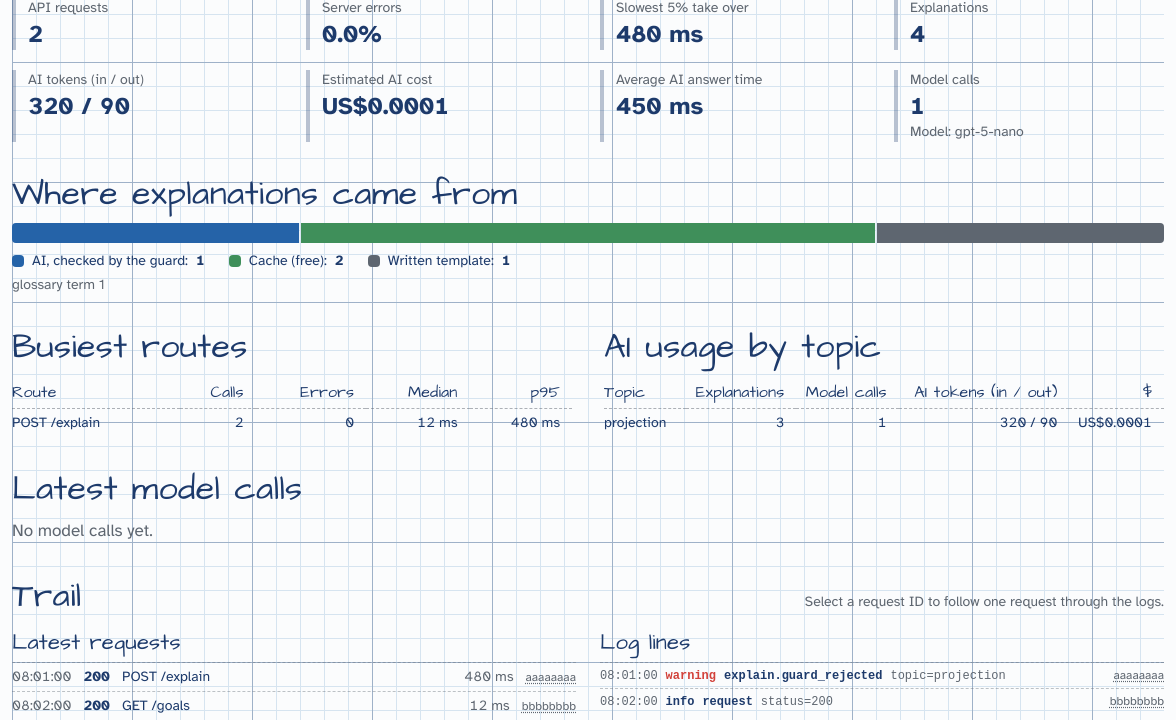
Test: shows traffic and AI usage, and follows one request through the trail
(page scrolled)
Expected: the text "320 / 90" is shown, [28,92,130,122]
Expected: the text "Model: gpt-5-nano" is shown, [910,124,1024,140]
# Following request A hides everything that belongs to request B.
Click the 1st button "aaaaaaaa" at (551, 677), box [526,669,576,685]
(page scrolled)
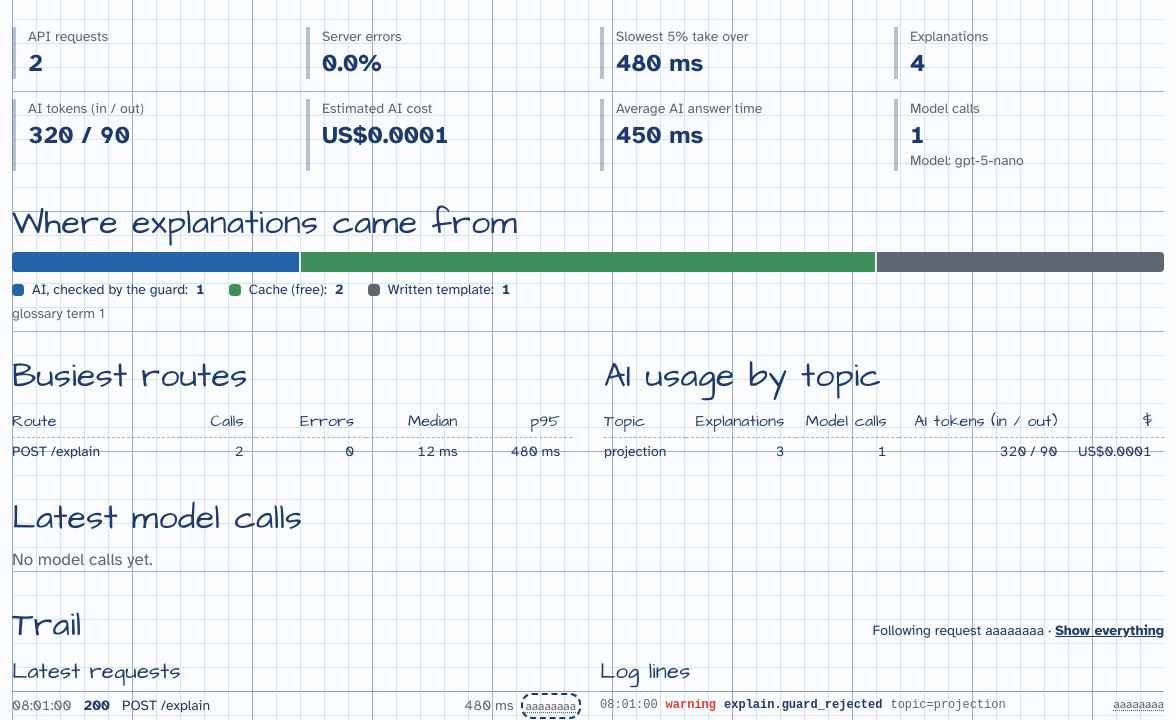
Expected: the text "explain.guard_rejected" is shown, [724,697,882,713]
Now the text "Following request aaaaaaaa · Show everything" is shown, box [873,621,1164,641]
